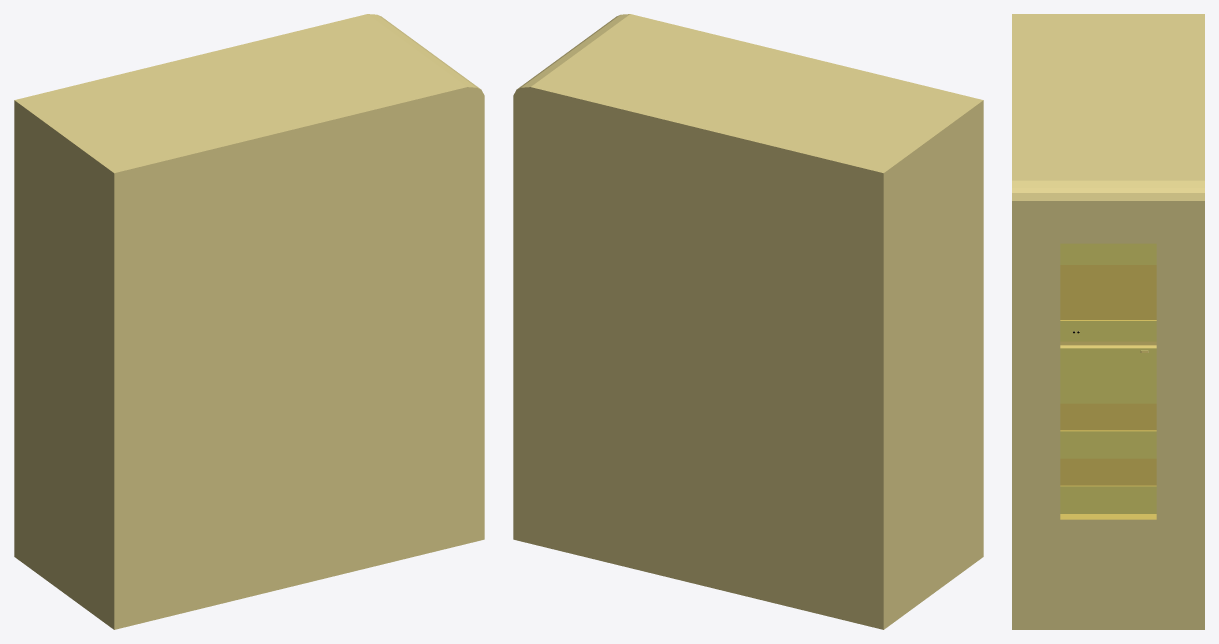
3 renders of one model, left to right at view 1: azimuth 30°, elevation 25°; view 2: azimuth 150°, elevation 25°; view 3: azimuth 270°, elevation 25°, orthographic. The views are drawn at different scales.
Visible parts, largest first — view 1: Pc Old; view 2: Pc Old; view 3: Pc Old.
Part boxes in pixels (x1,y1,x2,y2): Pc Old: (14,14,484,629); Pc Old: (513,14,983,629); Pc Old: (1012,14,1204,629).
Size of the model in its own units: 360 by 424 by 168.
